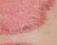plaque psoriasis: (0, 0, 53, 45), (0, 42, 57, 45)
